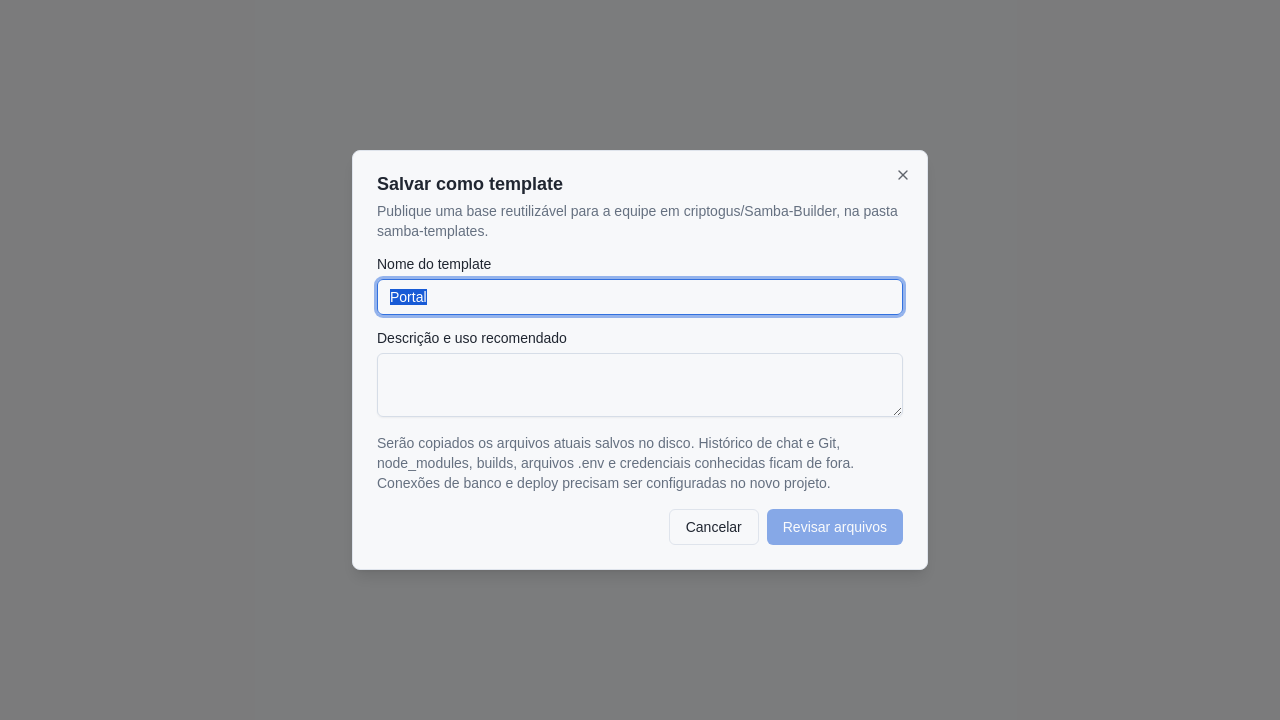
Test: keeps the reviewed draft available when GitHub rejects publication
This screenshot has width=1280, height=720.
In the text box labelled "Descrição e uso recomendado": (640, 385) [377,353,903,417], type "Base"
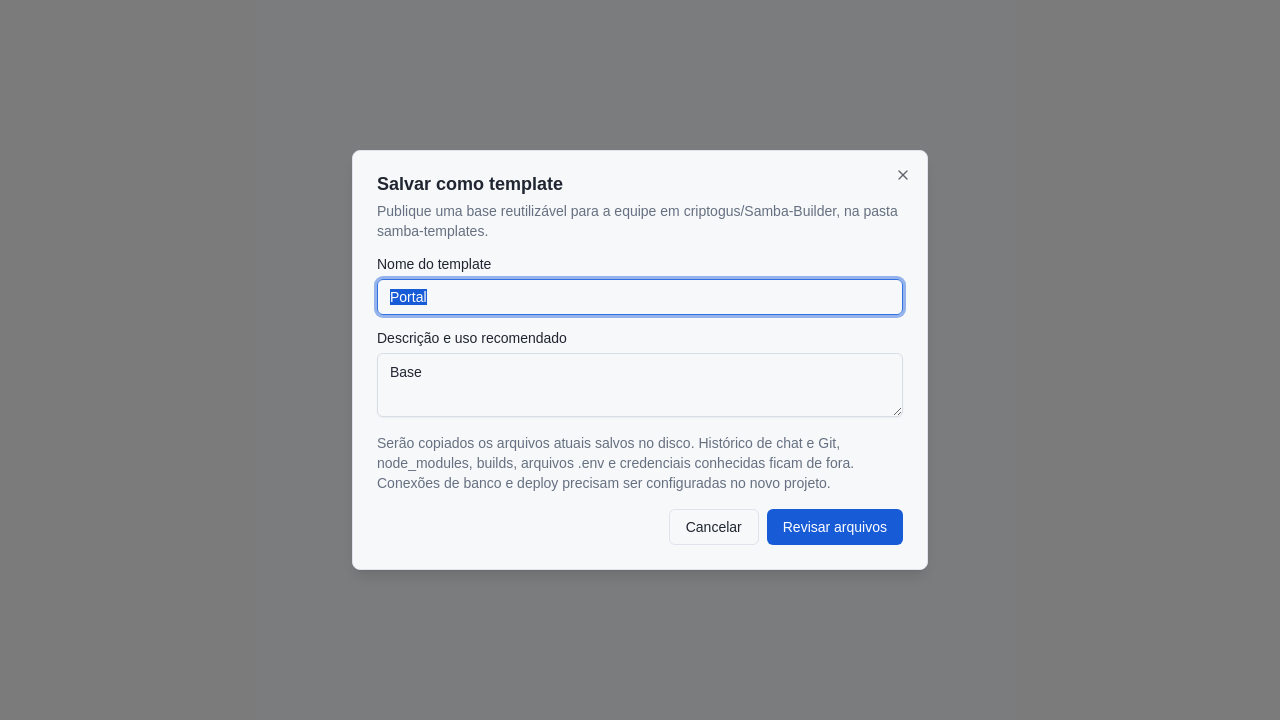
Click the button "Revisar arquivos": click(835, 527) [767,509,903,545]
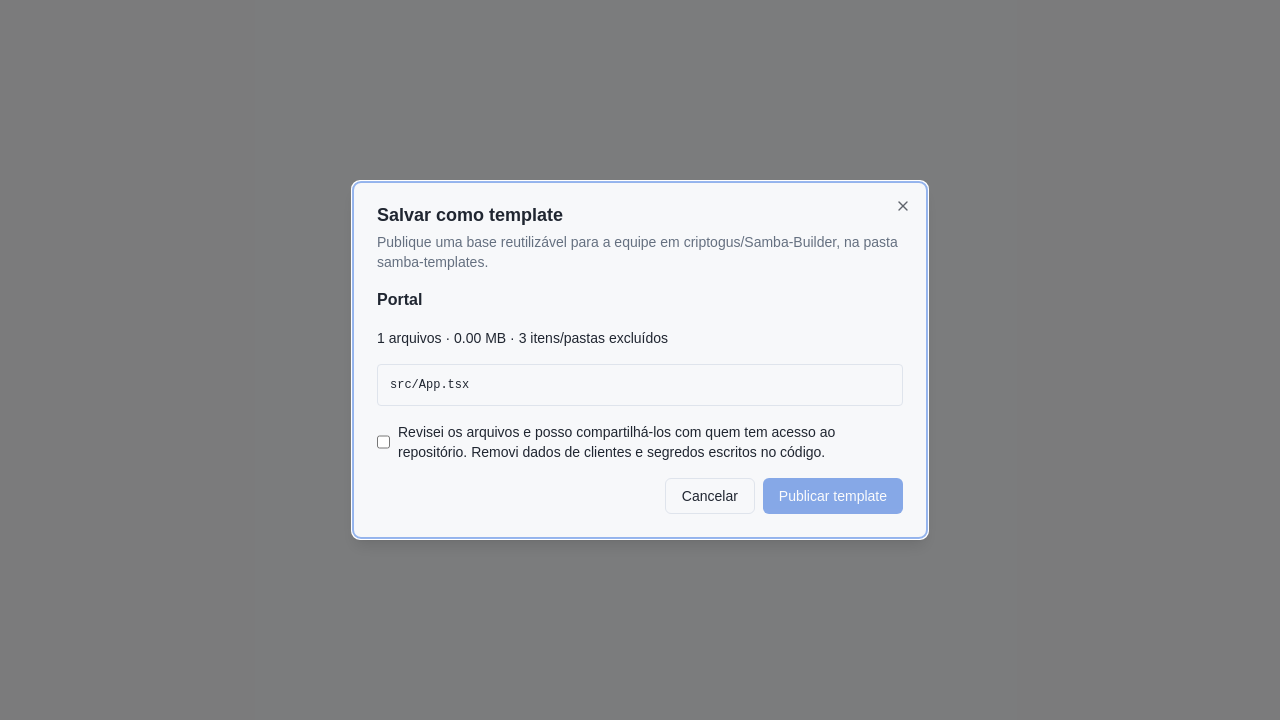
Check: the list named "Arquivos do template" is shown, box [377,364,903,406]
Click the checkbox: click(384, 442) [377,422,390,462]
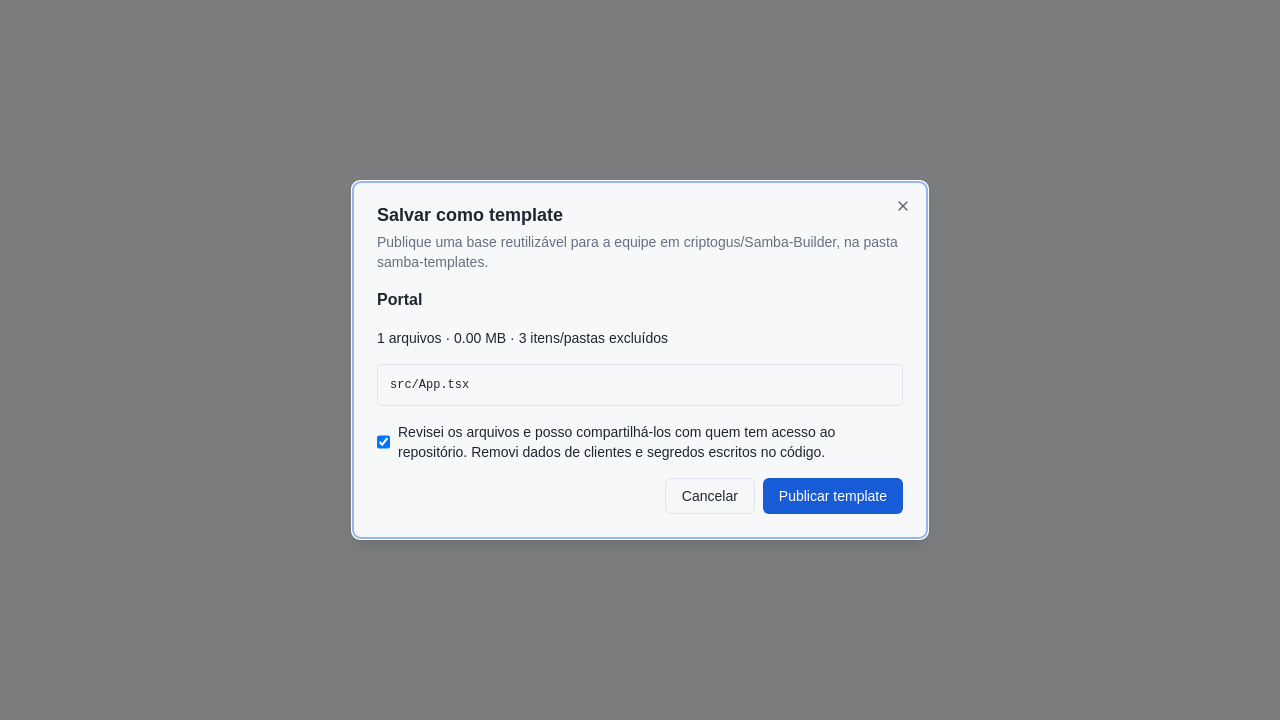
Click the button "Publicar template": click(833, 496) [763,478,903,514]
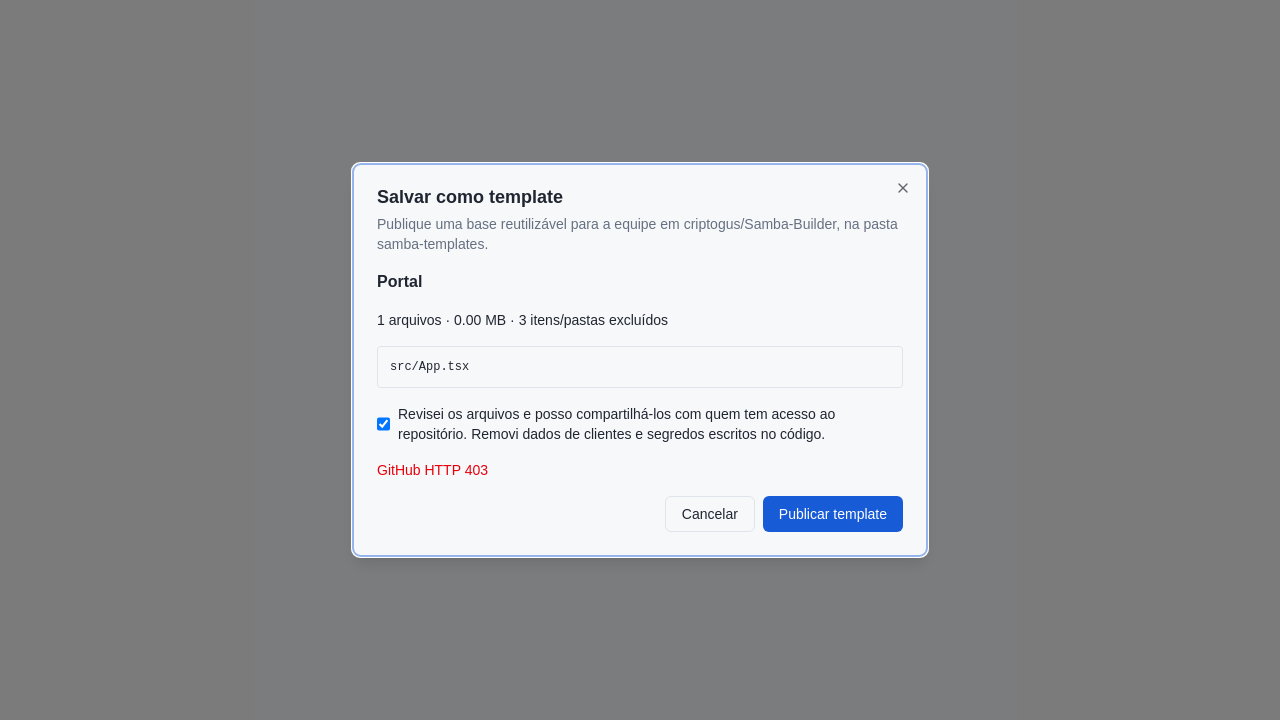
Check: the list named "Arquivos do template" reads "src/App.tsx", box [390,360,469,374]
Check: the message shows "403", box [377,462,488,478]
